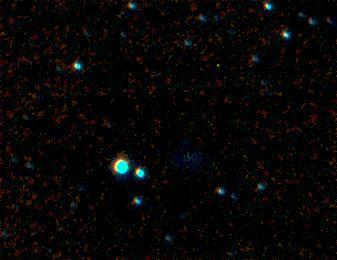star: (205, 51, 235, 81)
